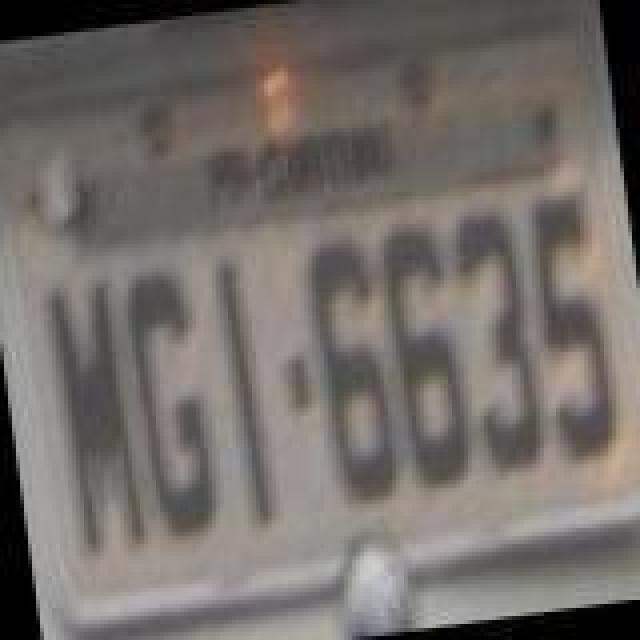1: (220, 258, 276, 526)
3: (446, 206, 546, 482)
5: (518, 190, 618, 466)
6: (374, 216, 474, 488), (304, 236, 400, 508)
G: (118, 266, 218, 542)
M: (46, 280, 146, 568)
